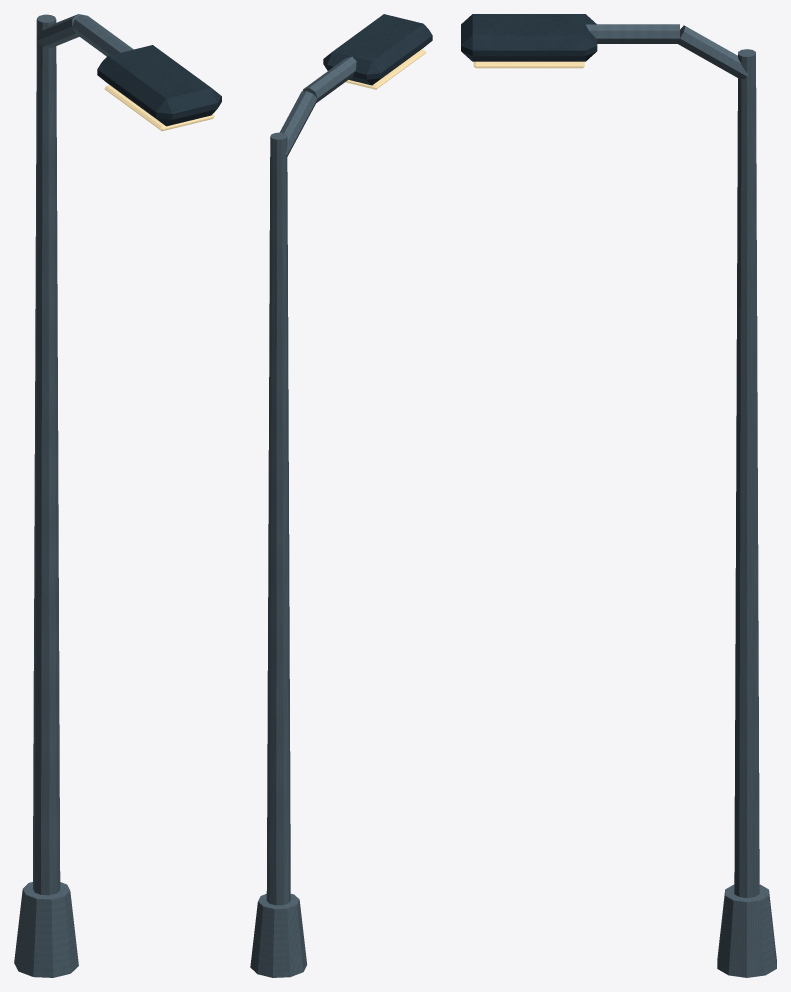
Rendered from street-lamp.glb.
3 views of the same model, side by side, from view 1: azimuth 30°, elevation 25°; view 2: azimuth 150°, elevation 25°; view 3: azimuth 270°, elevation 25° (orthographic). The views are drawn at different scales.
Parts seen in each view (by area): view 1: street-lamp; view 2: street-lamp; view 3: street-lamp.
Boxes of the visible parts, <box> form: street-lamp: <box>14,14,221,977</box>; street-lamp: <box>250,14,432,977</box>; street-lamp: <box>461,14,776,977</box>.
Bounding box in the file's own units: 0.3499 × 4.95 × 1.51.
2 materials, 2 textured.
